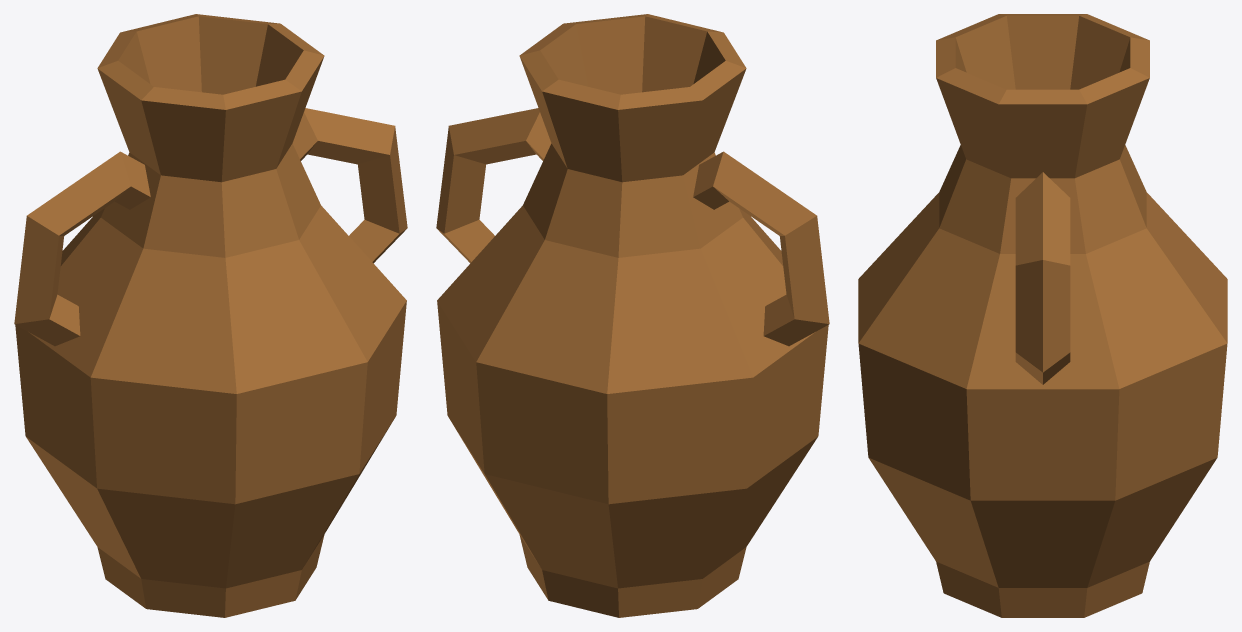
The model's file is Pot_1.fbx.
3 renders of one model, left to right at view 1: azimuth 30°, elevation 25°; view 2: azimuth 150°, elevation 25°; view 3: azimuth 270°, elevation 25°, orthographic.
Visible parts, largest first — view 1: Pot_1; view 2: Pot_1; view 3: Pot_1.
Boxes of the visible parts, x1=… form: Pot_1: x1=14, y1=14, x2=407, y2=617; Pot_1: x1=436, y1=14, x2=829, y2=617; Pot_1: x1=858, y1=14, x2=1227, y2=617.
Size of the model in its own units: 28.49 by 35.84 by 22.91.
